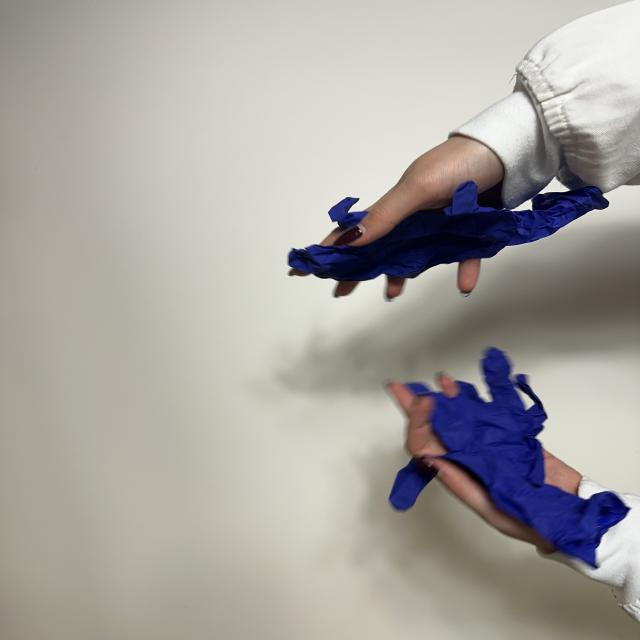glove_not_fitted: (389, 348, 630, 568), (289, 136, 604, 300)
